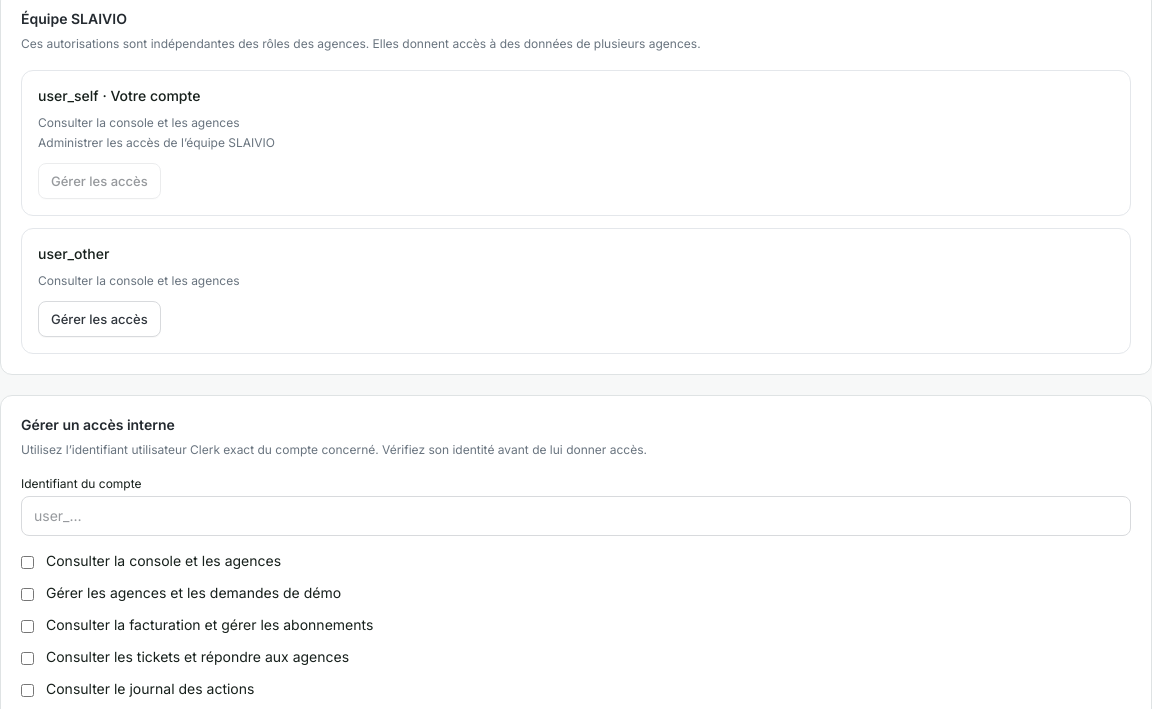
Scenario: allows revocation with an exact permission snapshot and protects the current account
expect the button "Gérer les accès" below "user_self" is disabled: met, box [38,163,161,199]
Click the button "Gérer les accès" below "user_other" at (99,319), box [38,301,161,337]
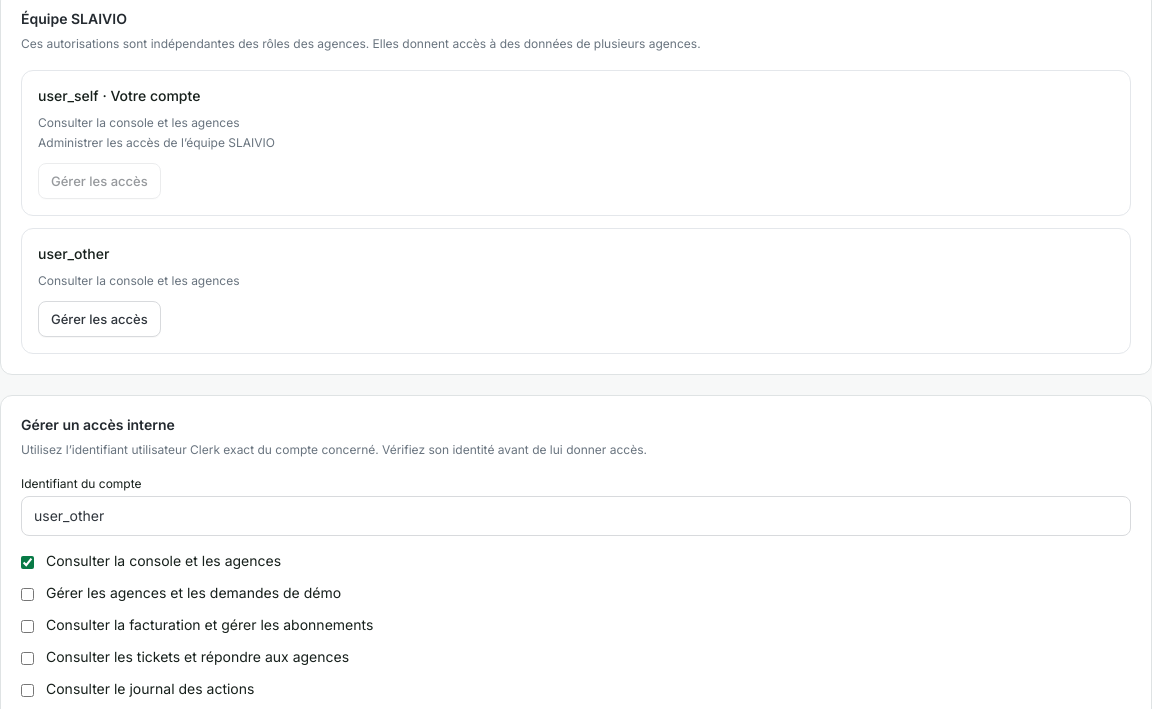
Click the checkbox labelled "Consulter la console et les agences" at (28,562), box [21,556,34,569]
(page scrolled)
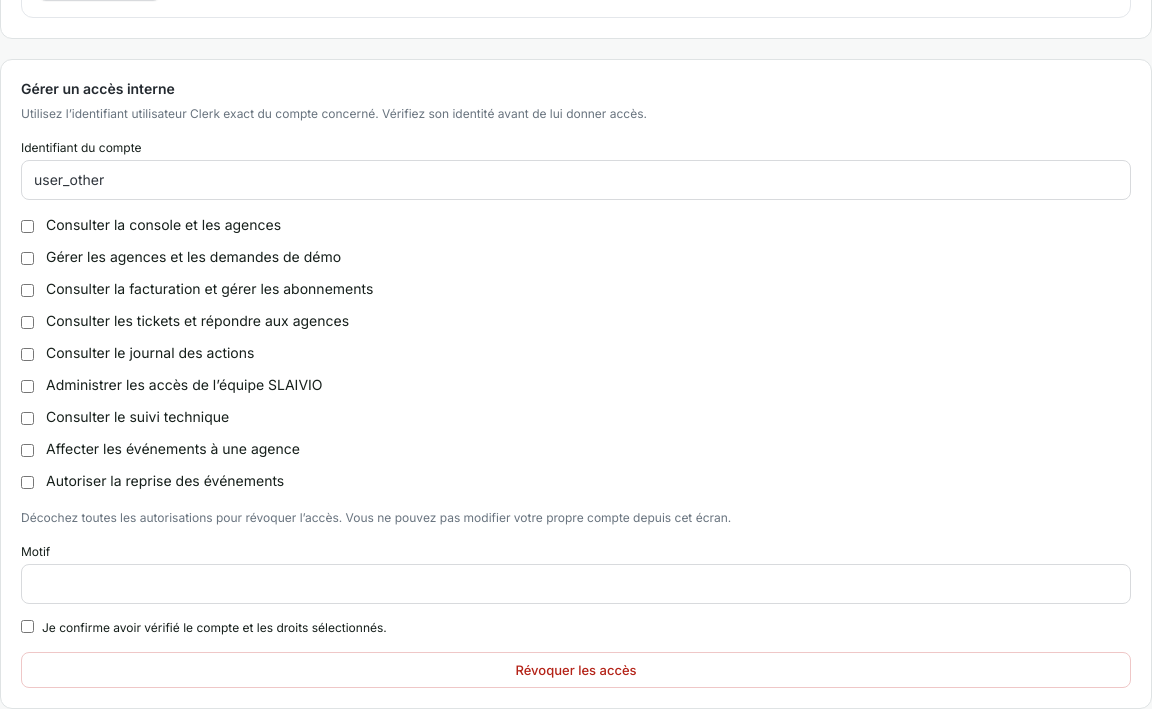
Type "Fin de la mission support" into the field labelled "Motif" at (576,584), box [21,564,1131,604]
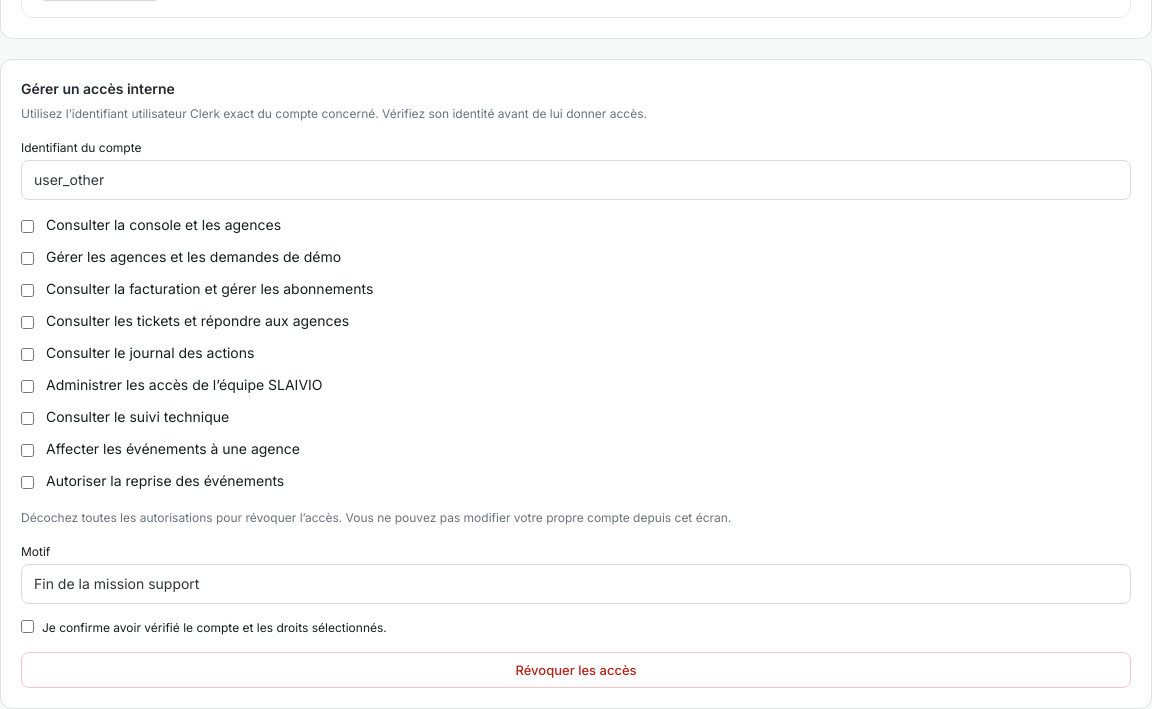
Click the checkbox labelled "Je confirme avoir vérifié le compte et les droits sélectionnés." at (28,626), box [21,620,34,633]
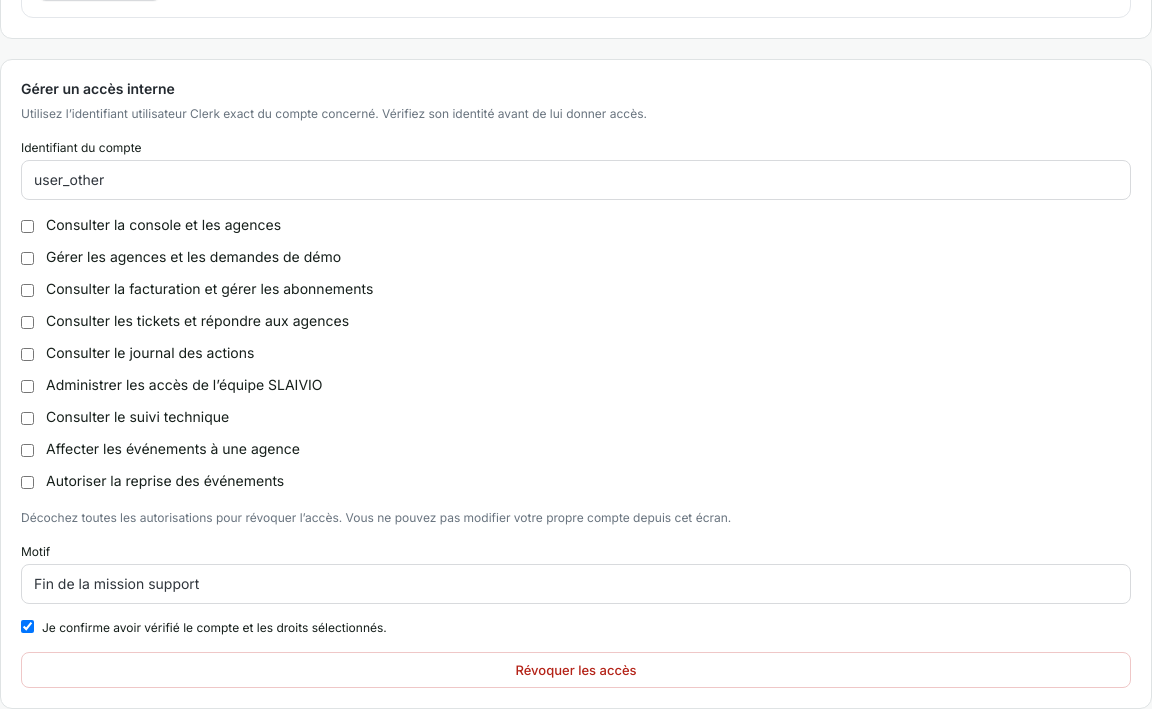
Click the button "Révoquer les accès" at (576,670), box [21,652,1131,688]
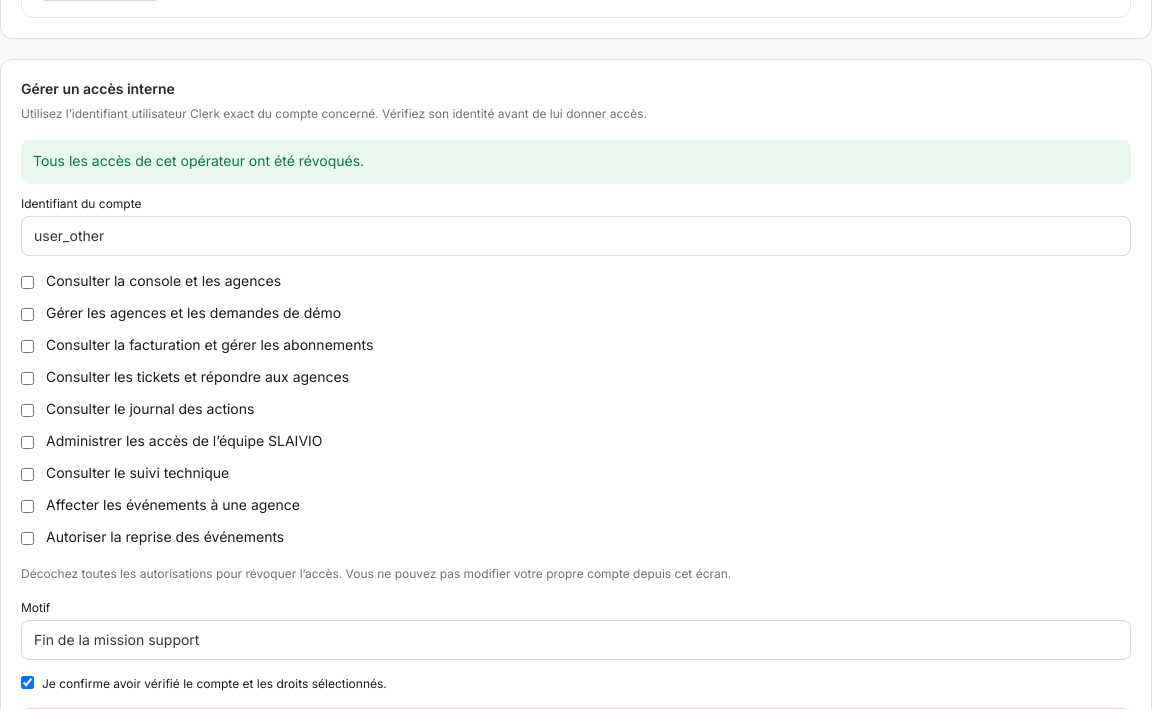
expect the message shows "révoqués": met, box [33,153,364,170]
